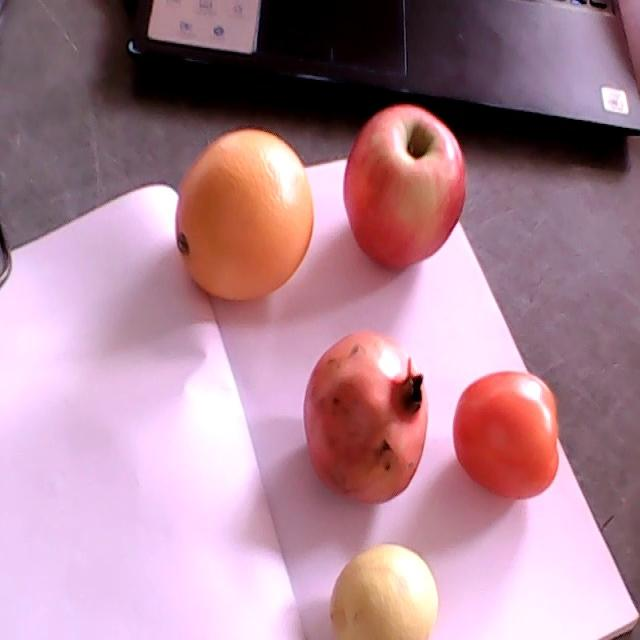apple: (343, 104, 466, 269)
lemon: (330, 545, 438, 639)
orange: (174, 129, 313, 302)
pomegranate: (304, 330, 429, 501)
tomato: (452, 370, 559, 499)
